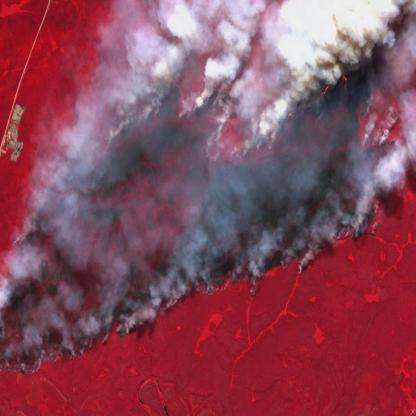fire: (0, 176, 416, 394), (284, 57, 360, 130), (358, 108, 398, 157), (206, 135, 274, 162), (178, 81, 206, 129), (102, 123, 120, 146)
